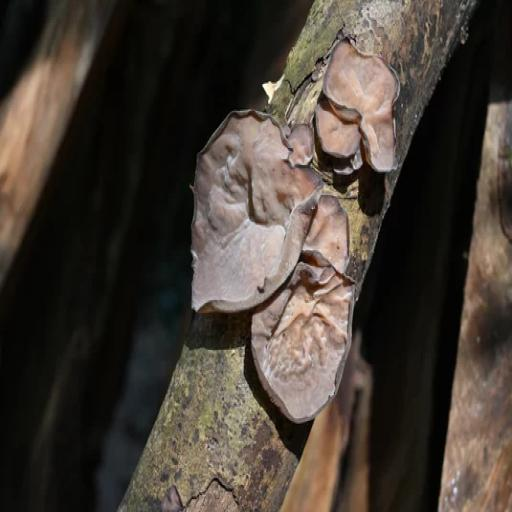mushroom: (181, 106, 336, 368), (242, 220, 361, 450), (284, 29, 410, 209), (288, 163, 364, 282)
